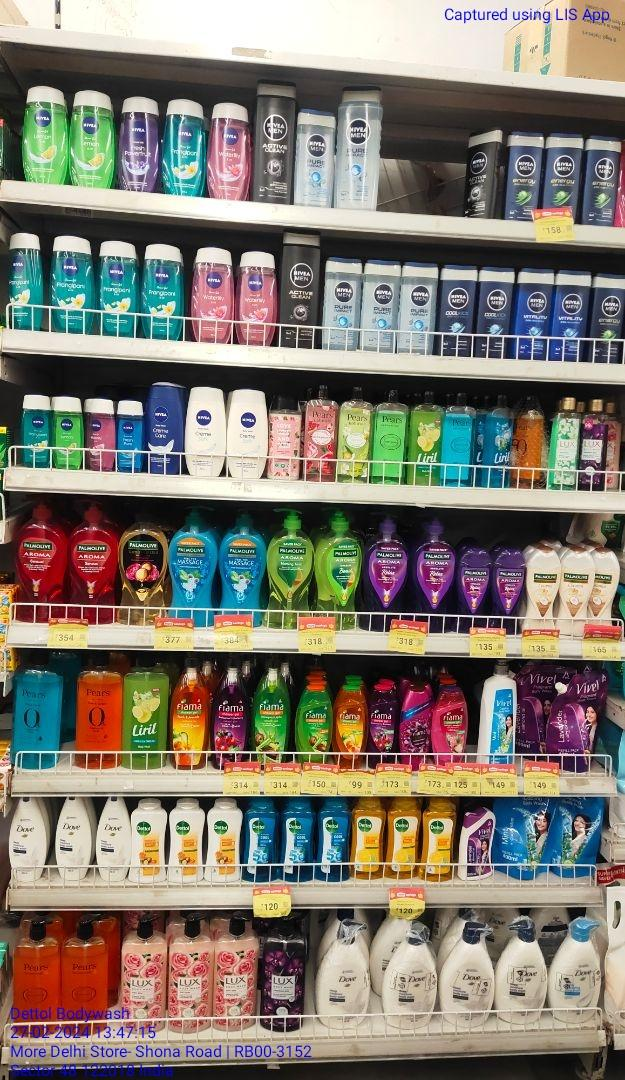Dettol_Bodywash_Cool: (244, 800, 277, 882), (281, 801, 314, 882), (318, 800, 349, 883)
Dettol_Bodywash_Refresh: (388, 799, 420, 879), (424, 799, 454, 884), (354, 799, 385, 881)
Dettol_Nourish_Body_Wash_250ML: (206, 799, 241, 886), (169, 800, 202, 886), (132, 801, 166, 884)
Dove_Deep_Moisture_Body_Wash_250ML: (8, 796, 45, 883), (57, 795, 91, 881), (97, 797, 129, 884)
Fiama_Shower_Gel_Lemongrass_and_Jojoba_250ML: (298, 686, 331, 765)
Fiama_Shower_Gel_Patchouli_and_Macadamia_250ML: (434, 686, 468, 768)
Fiama_Shower_Gel_Peach_and_Avocado_250ML: (335, 684, 365, 770)
Liril_Cooling_Mint_Body_Wash_250ML: (488, 394, 511, 488)
Liril_Lime_and_Tea_Tree_Oil_Body_Wash_250ML: (408, 389, 443, 485)
Lux_Black_Orchid_Scent_and_Juniper_Oil_Body_Wash_245ML: (581, 397, 609, 492)
Lux_Body_Wash_Skin_Detox_Freesia_Scent_and_Alove_Vera_245ML: (554, 395, 578, 489)
Nivea_Creme_Care_Body_Wash_250ML: (145, 382, 183, 474)
Nivea_Creme_Soft_Body_Wash_250ML: (186, 385, 226, 479), (230, 387, 268, 479)
Nivea_Shower_Gel_Frangipani_and_Oil_250ML: (163, 96, 204, 197), (97, 238, 138, 339), (50, 235, 91, 334), (144, 242, 185, 340), (6, 231, 41, 329), (20, 394, 52, 468)
Nivea_Shower_Gel_Fresh_Powerfruit_250ML: (120, 94, 159, 191)
Nivea_Shower_Gel_Lemon_and_Oil_250ML: (71, 90, 118, 187), (24, 83, 66, 182), (54, 393, 83, 469)
Nivea_Shower_Gel_Waterlily_and_Oil_250ML: (192, 246, 234, 345), (237, 248, 276, 348), (209, 100, 244, 198), (84, 396, 114, 472)
Palmolive_Aroma_Relax_250ML: (458, 549, 490, 634), (492, 549, 523, 635)
Palmolive_Coconut_Joy_Exfoliating_Body_Wash_250ML: (527, 547, 559, 633), (560, 546, 589, 638), (592, 546, 617, 631)
Pears_Naturale_Aloe_Vera_Body_Wash_250ML: (338, 386, 370, 483)
Pears_Pure_Glycerin_and_Lemon_Flower_Extracts_Body_Wash_250ML: (374, 387, 403, 484)
Pears_Pure_Glycerin_and_Mint_Extracts_Body_Wash_250ML: (443, 393, 473, 487)
